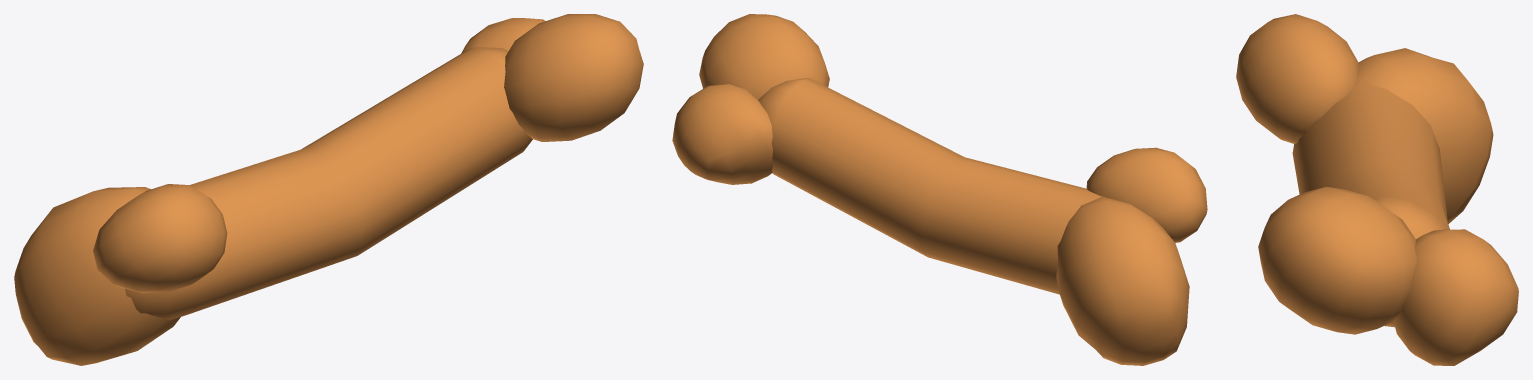
File: bone_fall_straight.fbx
3 renders of one model, left to right at view 1: azimuth 30°, elevation 25°; view 2: azimuth 150°, elevation 25°; view 3: azimuth 270°, elevation 25°, orthographic. The views are drawn at different scales.
Parts seen in each view (by area): view 1: bone_1; view 2: bone_1; view 3: bone_1.
Part boxes in pixels (x1,y1,x2,y2): bone_1: (14, 14, 643, 365); bone_1: (672, 14, 1207, 365); bone_1: (1236, 14, 1518, 365).
Size of the model in its own units: 2 by 0.8345 by 0.7493.
